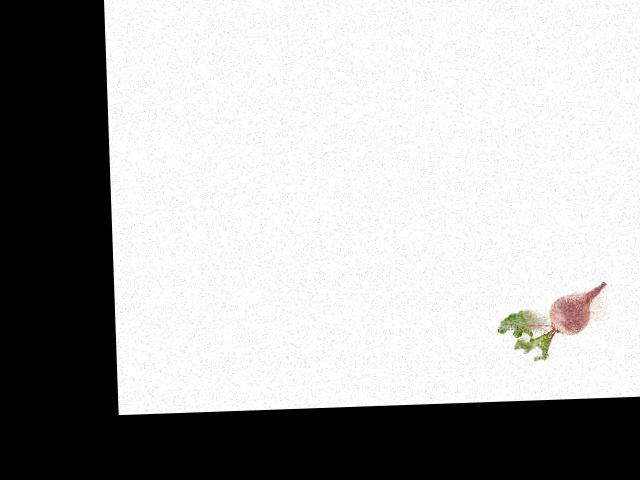beet: (495, 282, 608, 362)
